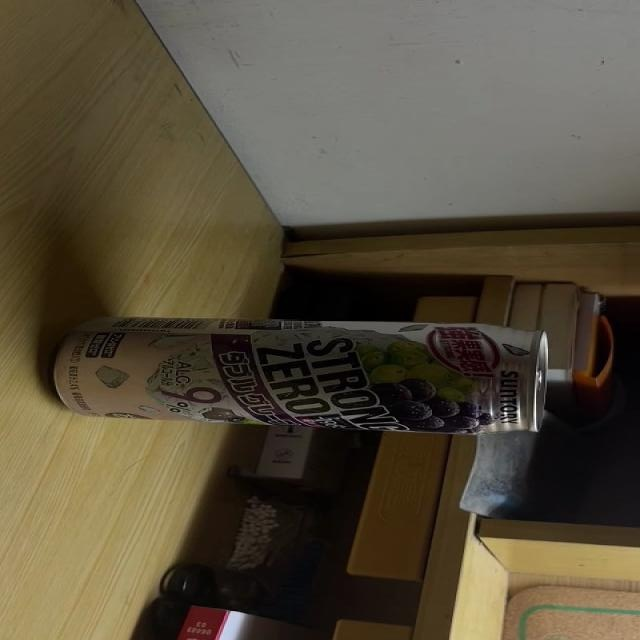Liquor: (49, 318, 549, 435)
